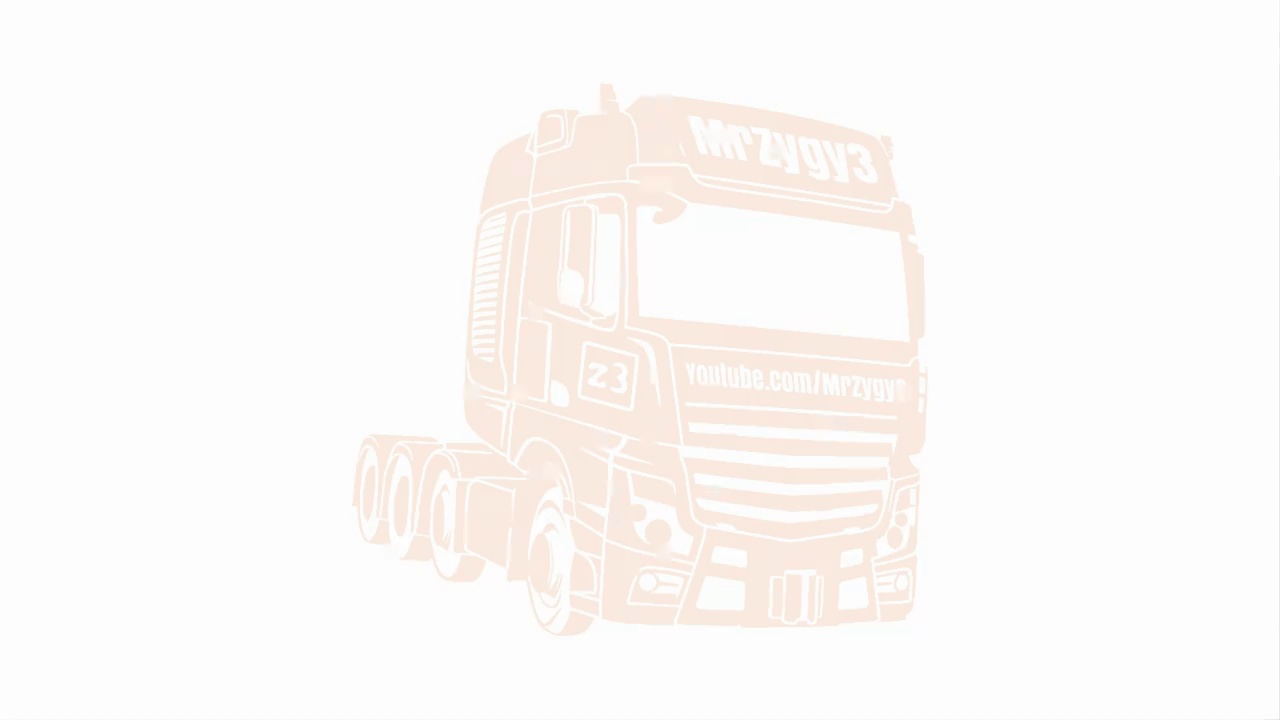truck: (347, 76, 936, 645)
